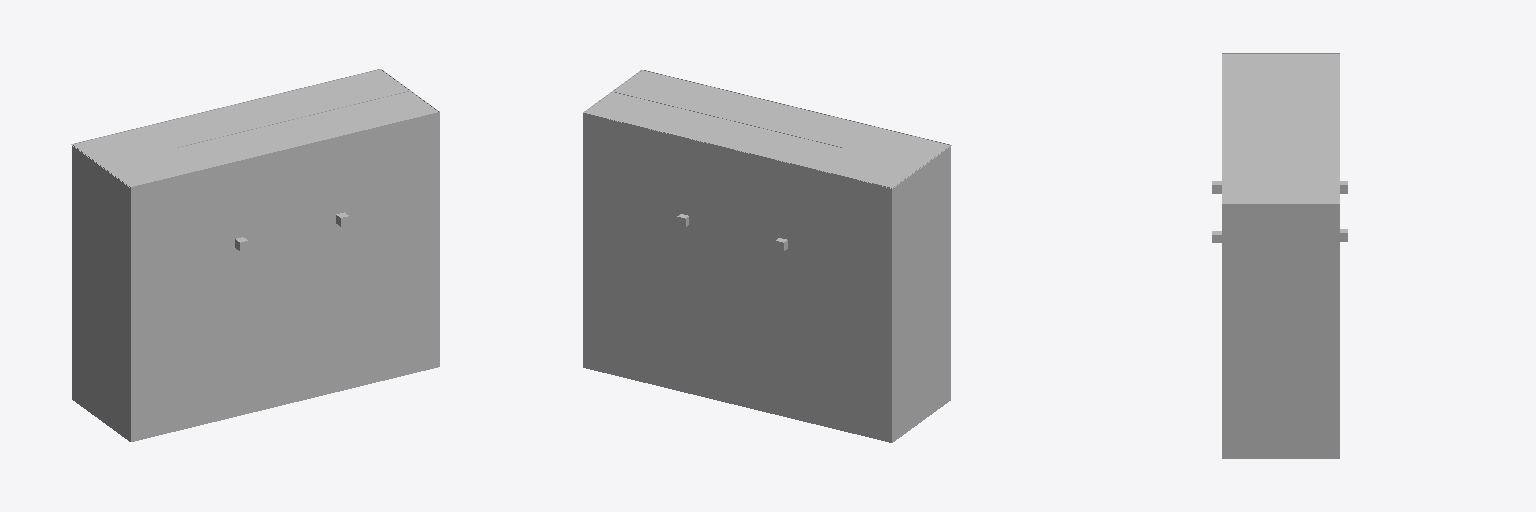
Rendered from lvl6.obj.
The picture shows the model from 3 angles: view 1: azimuth 30°, elevation 25°; view 2: azimuth 150°, elevation 25°; view 3: azimuth 270°, elevation 25°; orthographic projection.
Parts seen in each view (by area): view 1: Cube.003; view 2: Cube.003; view 3: Cube.003.
Part boxes in pixels (x1,y1,x2,y2): Cube.003: (71, 69, 439, 441); Cube.003: (583, 70, 951, 442); Cube.003: (1212, 53, 1347, 458).
Size of the model in its own units: 73.63 by 57.9 by 27.97.